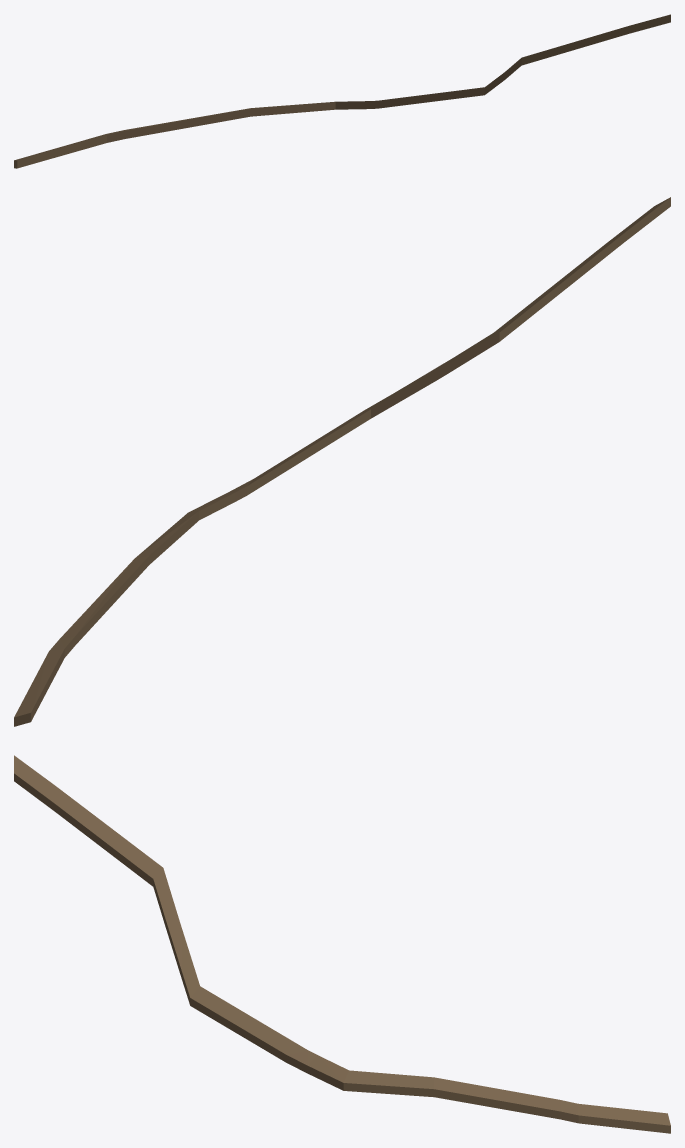
3 views of the same model, one above another, from view 1: azimuth 90°, elevation 25°; view 2: azimuth 150°, elevation 25°; view 3: azimuth 270°, elevation 25° (orthographic). The views are drawn at different scales.
Size of the model in its own units: 22.57 by 23.28 by 52.07.
